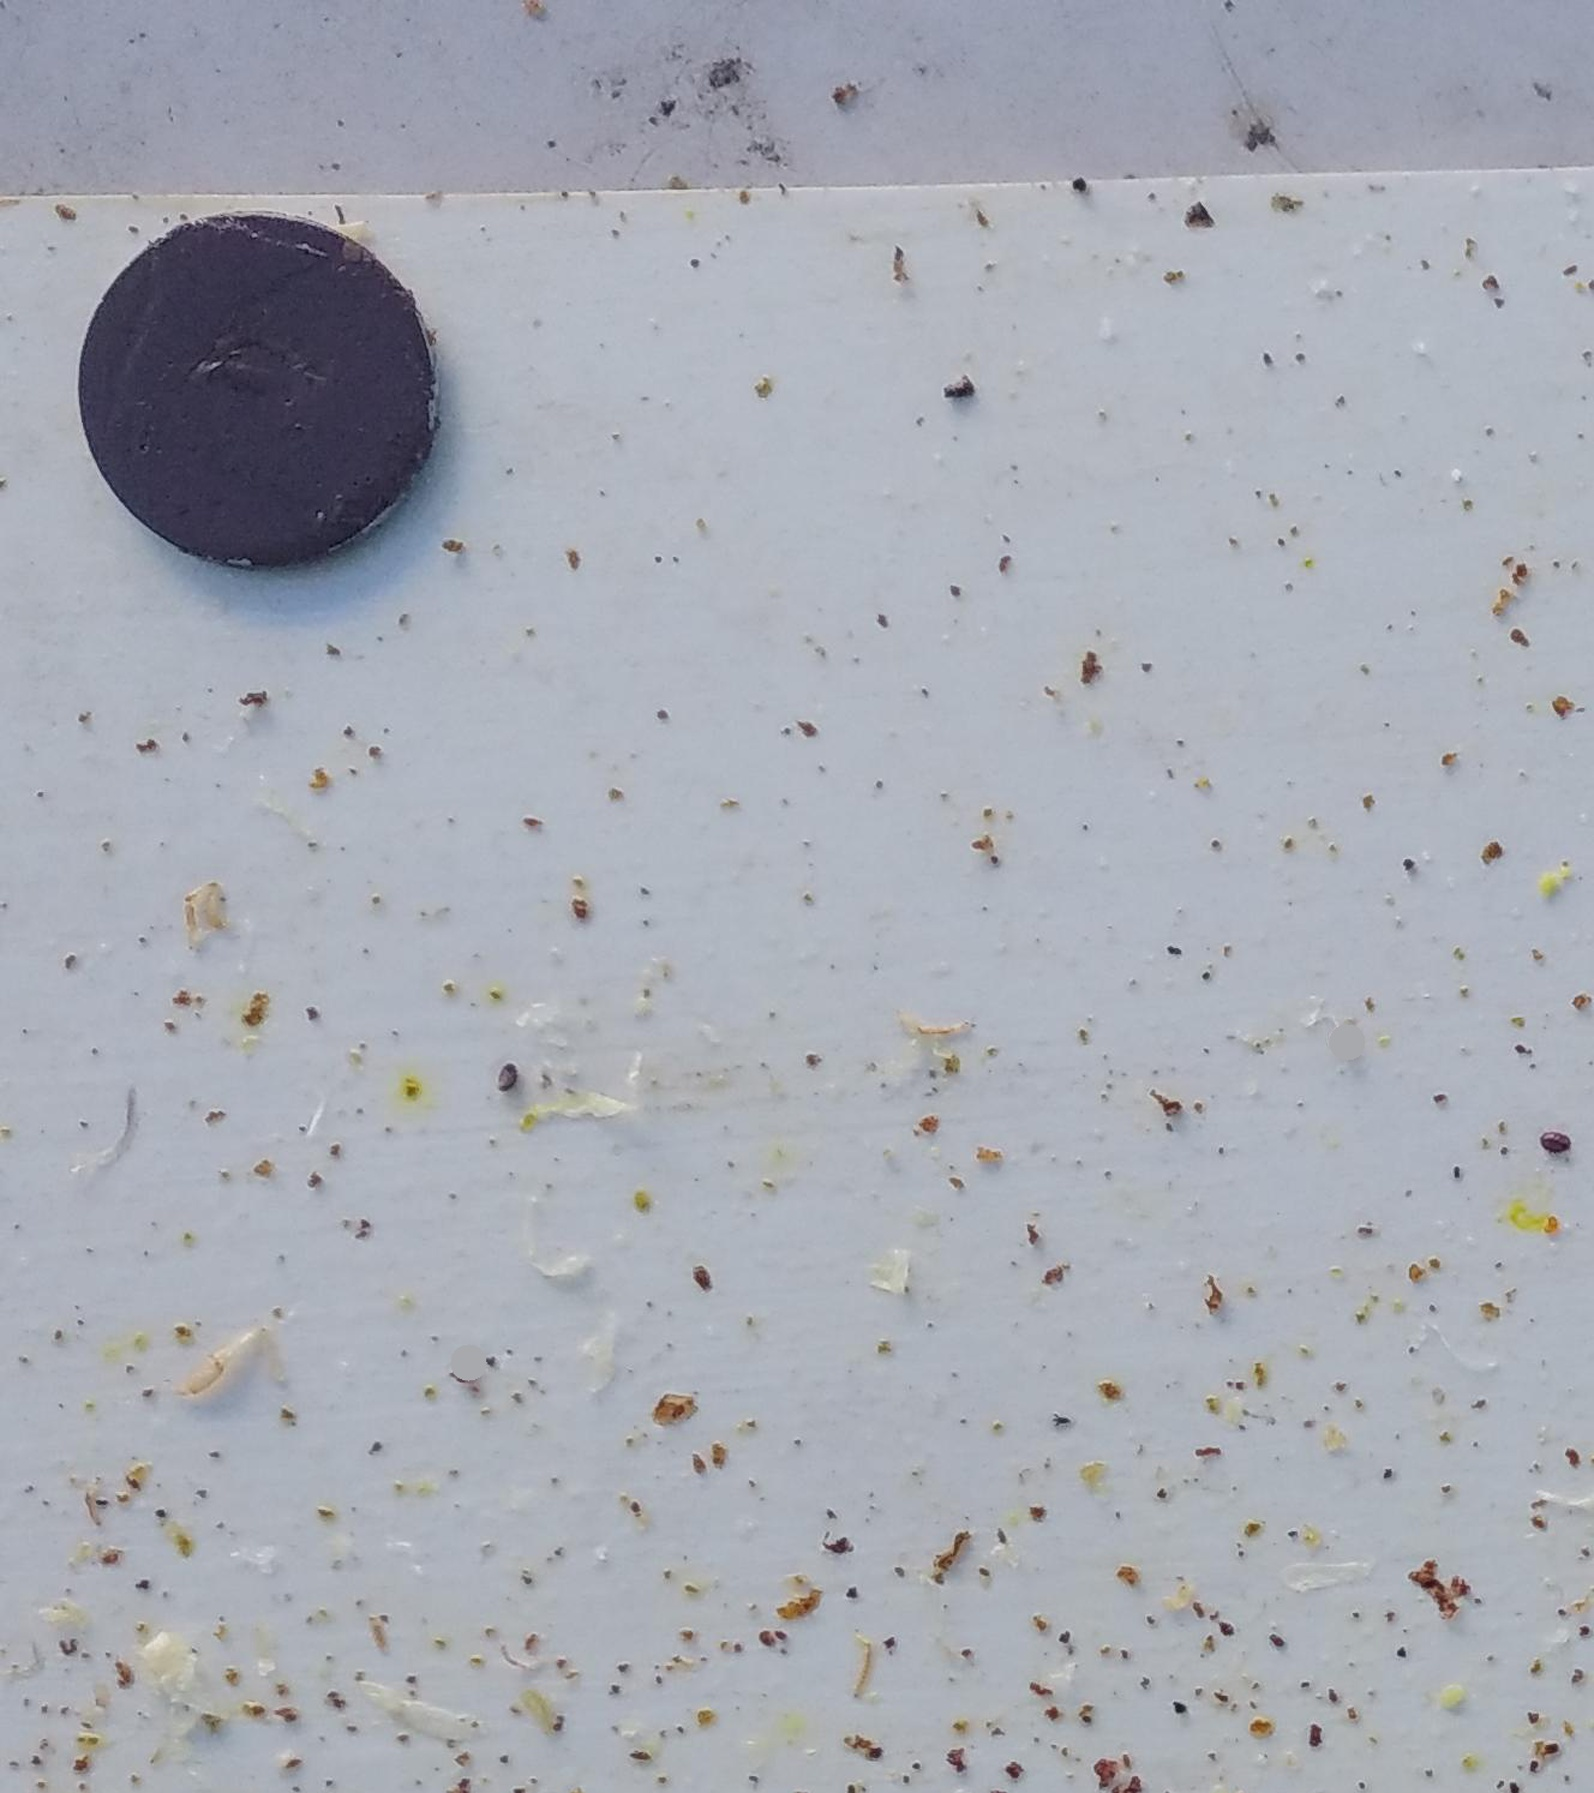Varroa: (492, 1063, 522, 1094), (1546, 1133, 1566, 1153)
